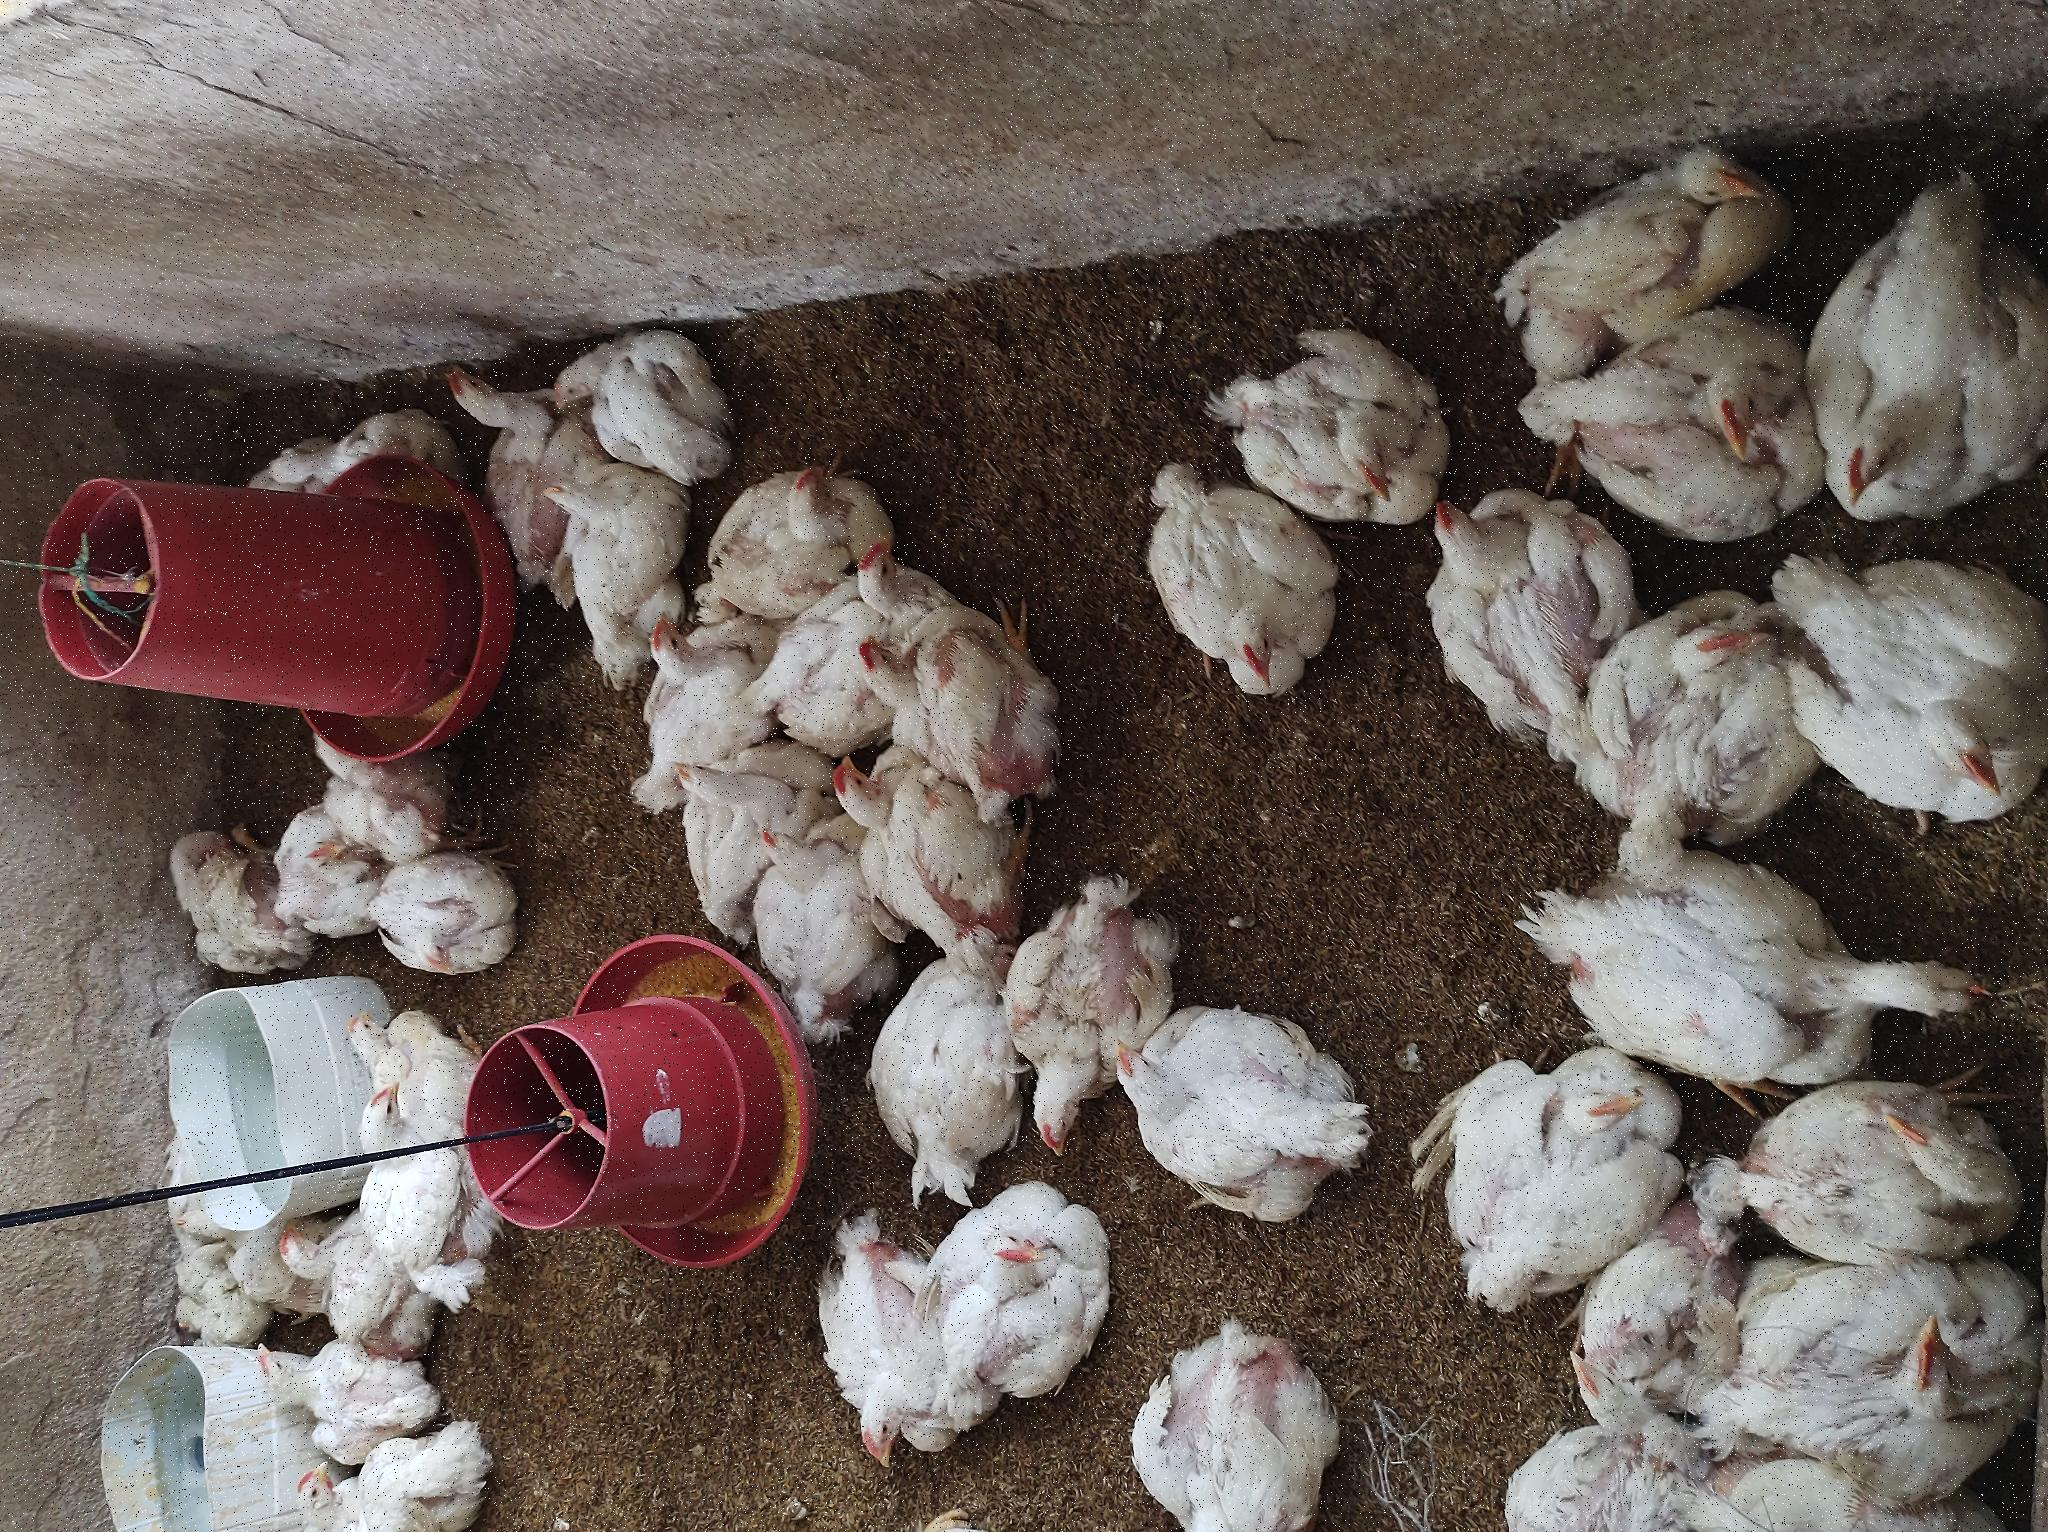Pollos: (331, 1106, 570, 1371), (825, 1123, 1055, 1353), (3, 1133, 233, 1357), (372, 1015, 661, 1180), (1009, 1246, 1232, 1452), (117, 940, 354, 1131), (56, 774, 317, 935), (325, 871, 578, 1019), (227, 1406, 496, 1532), (602, 827, 783, 1006), (772, 846, 935, 1046), (878, 536, 1062, 692), (820, 1411, 1046, 1532), (491, 753, 708, 867), (1075, 552, 1211, 729), (927, 711, 1088, 861), (2, 283, 108, 497), (241, 359, 449, 463), (77, 254, 211, 409), (550, 386, 689, 529), (565, 163, 716, 290), (700, 312, 809, 480), (1054, 439, 1187, 549), (1034, 269, 1113, 443), (672, 666, 785, 782), (795, 645, 941, 731), (598, 274, 721, 352), (920, 845, 997, 961), (219, 282, 328, 352), (470, 335, 536, 401), (282, 159, 339, 220)
